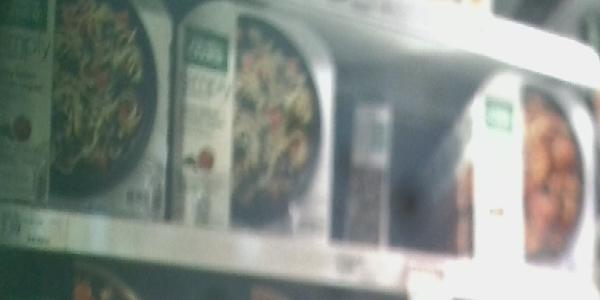pizza1: (170, 1, 331, 241), (1, 1, 168, 218), (462, 69, 598, 259)
